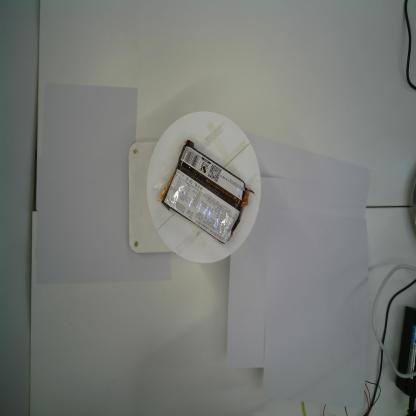Dessert: (157, 138, 256, 243)
